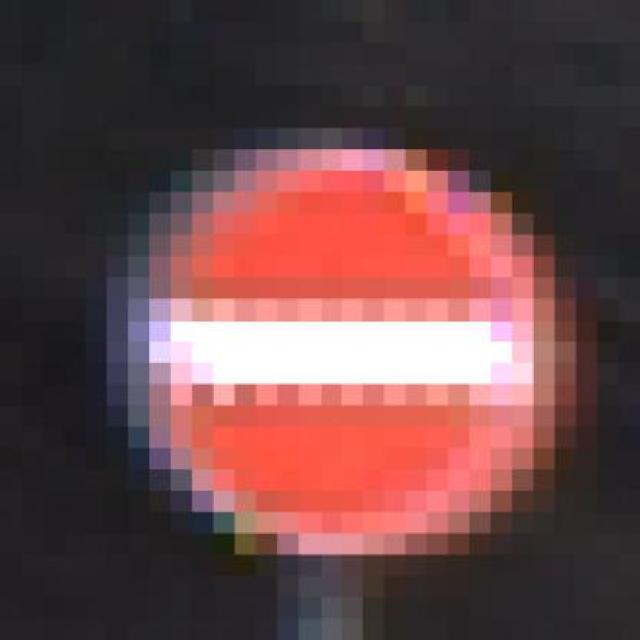No Entry: (107, 128, 598, 555)
